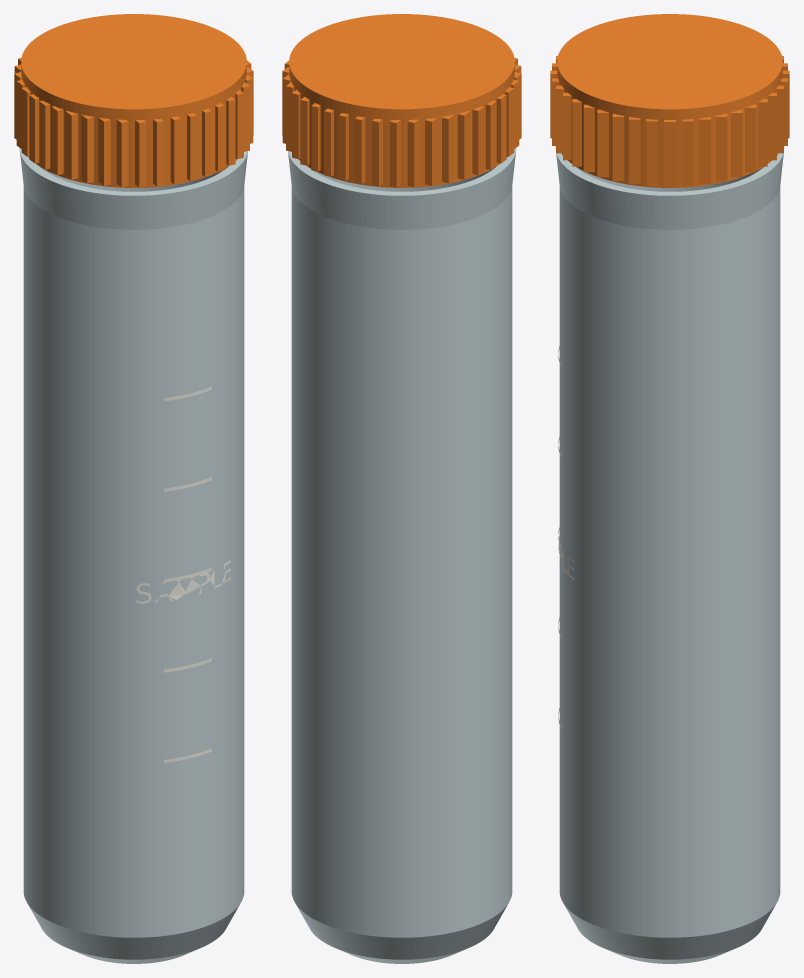
Rendered from preview.glb.
3 views of the same model, side by side, from view 1: azimuth 30°, elevation 25°; view 2: azimuth 150°, elevation 25°; view 3: azimuth 270°, elevation 25° (orthographic).
Visible parts, largest first — view 1: Vessel_Vessel, Closure_Closure, Closure_Grip23, Closure_Grip22, Closure_Grip24, Closure_Grip25, Closure_Grip26, Closure_Grip21, Closure_Grip27, Print0, Closure_Grip20, Closure_Grip29 (+7 smaller); view 2: Vessel_Vessel, Closure_Closure, Closure_Grip17, Closure_Grip15, Closure_Grip16, Closure_Grip18, Closure_Grip14, Closure_Grip19, Closure_Grip13, Closure_Grip20, Closure_Grip11, Closure_Grip10 (+6 smaller); view 3: Vessel_Vessel, Closure_Closure, Closure_Grip3, Closure_Grip37, Closure_Grip4, Closure_Grip36, Closure_Grip5, Closure_Grip35, Closure_Grip0, Closure_Grip1, Closure_Grip39, Closure_Grip2 (+5 smaller).
Part boxes in pixels (x1,y1,x2,y2): Vessel_Vessel: [19, 148, 247, 963]; Closure_Closure: [21, 14, 246, 187]; Closure_Grip23: [65, 111, 78, 179]; Closure_Grip22: [51, 106, 63, 175]; Closure_Grip24: [81, 114, 93, 183]; Closure_Grip25: [98, 117, 110, 185]; Closure_Grip26: [116, 119, 128, 187]; Closure_Grip21: [39, 100, 50, 169]; Closure_Grip27: [135, 120, 146, 187]; Print0: [136, 560, 231, 603]; Closure_Grip20: [29, 94, 39, 163]; Closure_Grip29: [170, 116, 180, 184]; Vessel_Vessel: [288, 148, 516, 963]; Closure_Closure: [289, 14, 514, 187]; Closure_Grip17: [457, 111, 470, 179]; Closure_Grip15: [425, 117, 437, 185]; Closure_Grip16: [442, 114, 454, 183]; Closure_Grip18: [472, 106, 484, 175]; Closure_Grip14: [407, 119, 419, 187]; Closure_Grip19: [485, 100, 496, 169]; Closure_Grip13: [389, 120, 400, 187]; Closure_Grip20: [496, 94, 506, 163]; Closure_Grip11: [355, 116, 365, 184]; Closure_Grip10: [338, 113, 348, 181]; Vessel_Vessel: [555, 146, 784, 963]; Closure_Closure: [557, 14, 782, 187]; Closure_Grip3: [715, 113, 727, 181]; Closure_Grip37: [612, 113, 624, 181]; Closure_Grip4: [731, 109, 742, 177]; Closure_Grip36: [597, 109, 608, 177]; Closure_Grip5: [745, 104, 756, 172]; Closure_Grip35: [583, 104, 594, 172]; Closure_Grip0: [664, 120, 675, 186]; Closure_Grip1: [682, 119, 693, 185]; Closure_Grip39: [646, 119, 657, 185]; Closure_Grip2: [699, 117, 710, 183].
Size of the model in its own units: 0.0298 by 0.122 by 0.0303.
